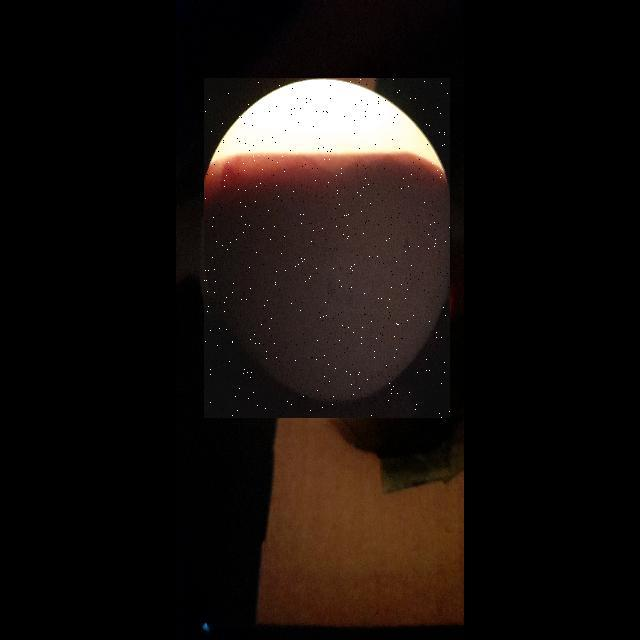Fertile: (204, 78, 450, 418)
